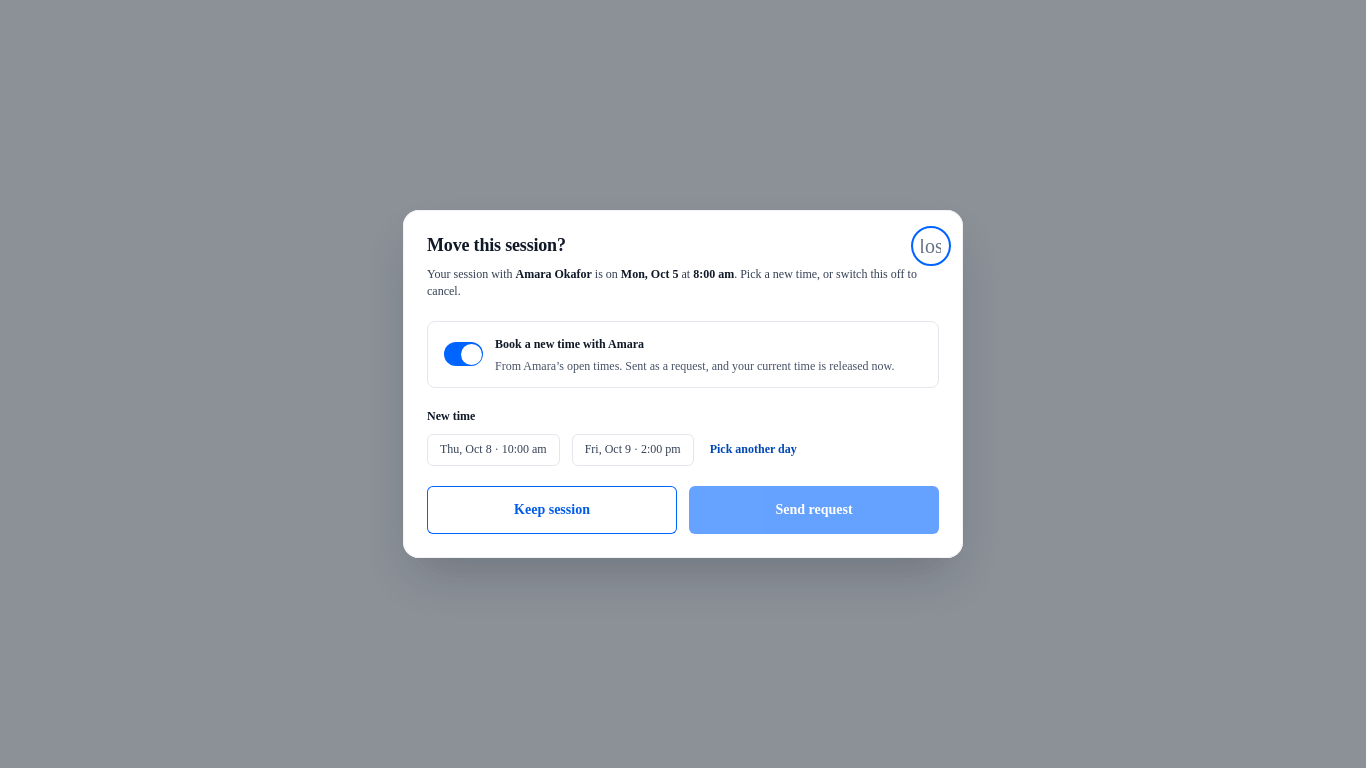
Scenario: with approval on the session type › drafts the request message
The image size is (1366, 768).
Click the radio button labelled "Thu, Oct 8 · 10:00 am" at (493,450), box [427, 434, 560, 466]
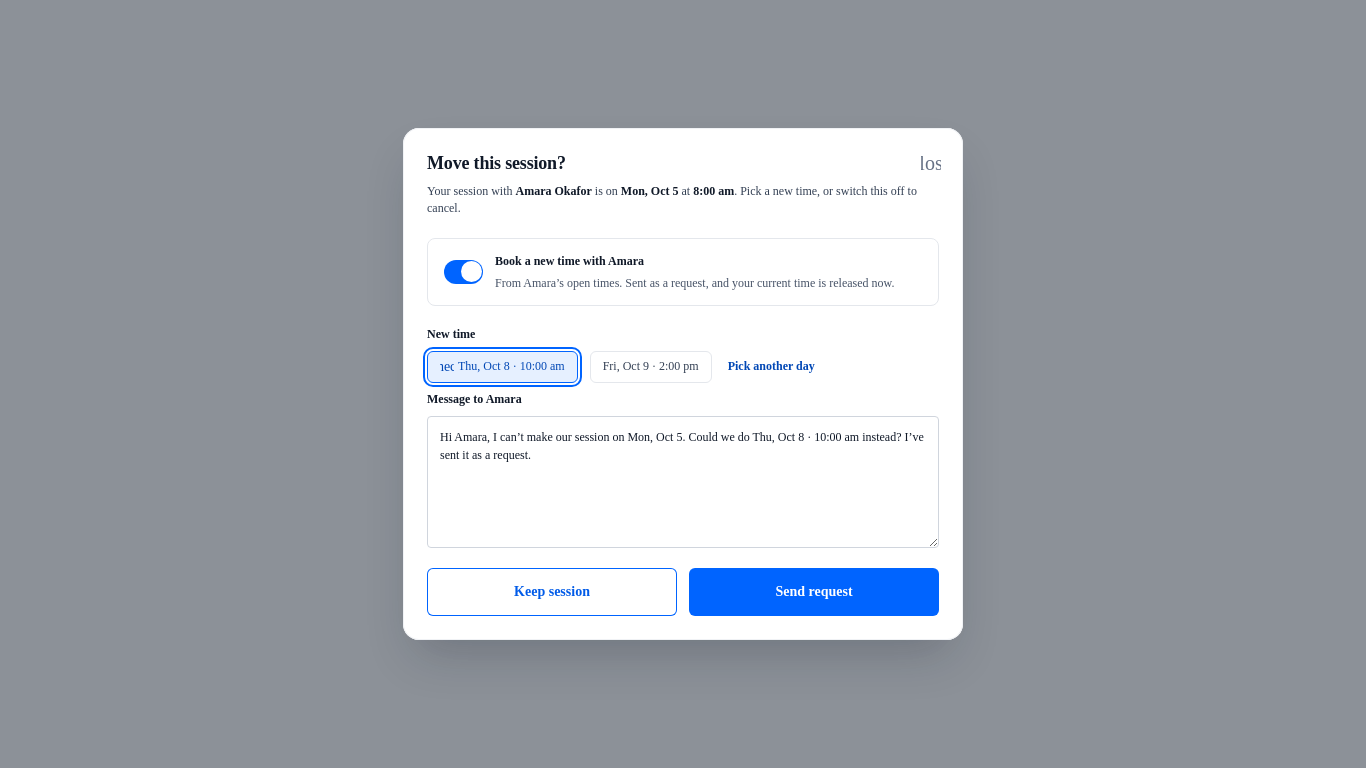
Expected: the text box labelled "Message to Amara" holds "Hi Amara, I can’t make our session on Mon, Oct 5. Could we do Thu, Oct 8 · 10:00 am instead? I’ve sent it as a request.", [427, 416, 939, 548]
